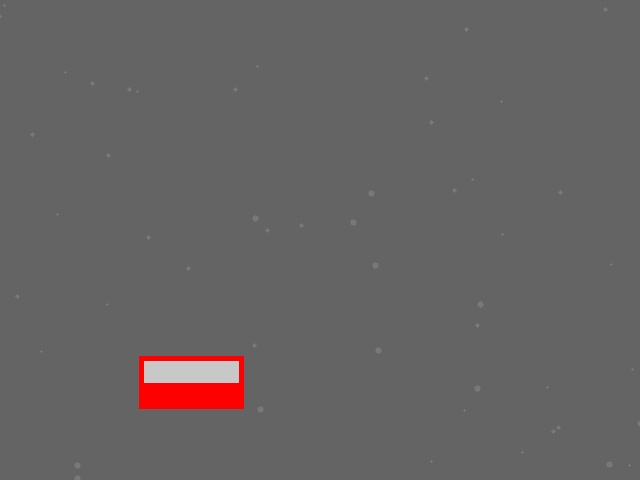car: (139, 356, 243, 408)
